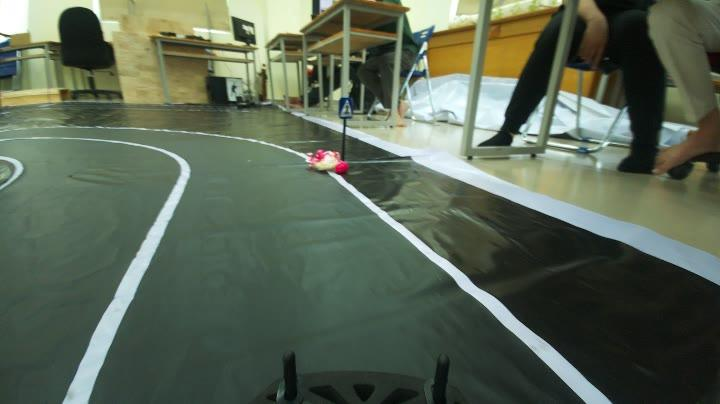crosswalk: (334, 96, 358, 123)
